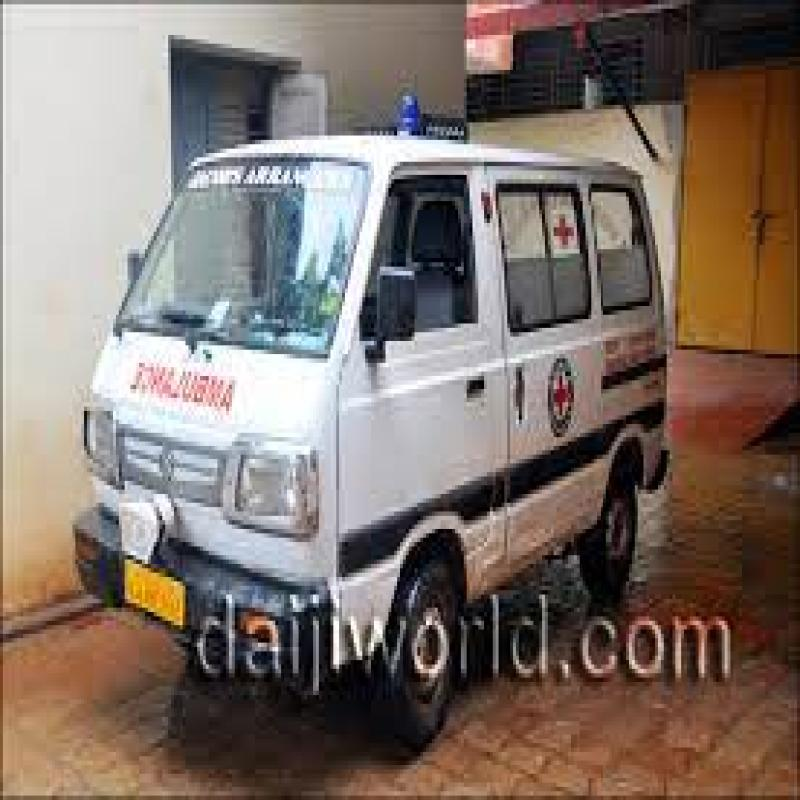ambulance: (106, 149, 679, 638)
